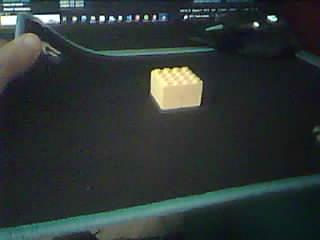lego: (150, 66, 203, 109)
